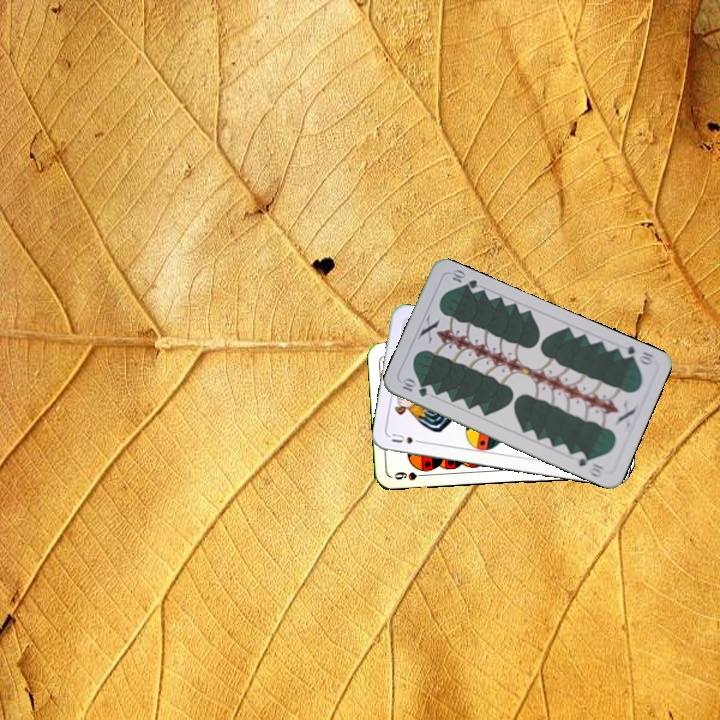G10: (616, 341, 657, 368), (398, 375, 430, 400)
S9: (391, 468, 430, 483)
SU: (388, 429, 427, 447)
